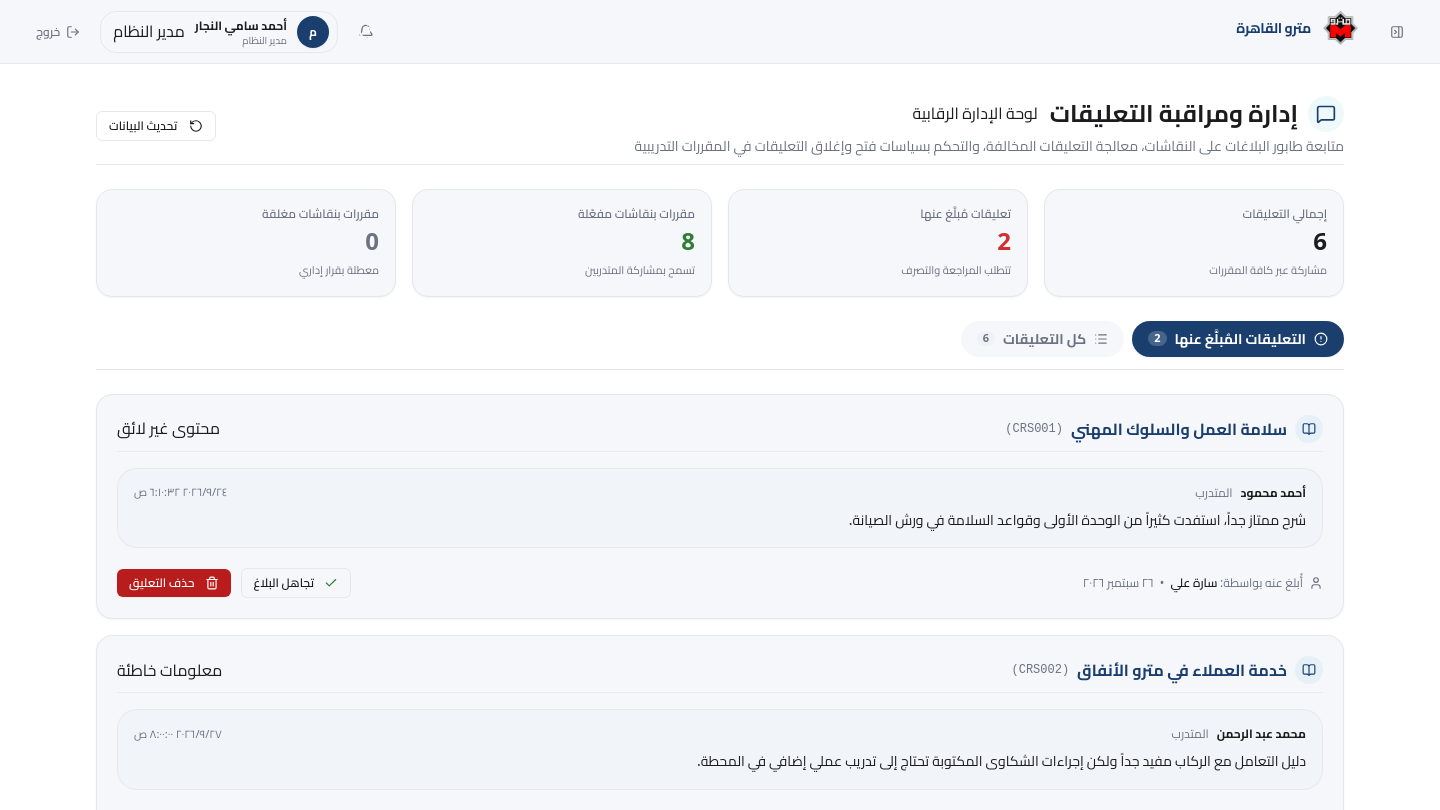
Test: Increment 11 — Phase 5B: Administrative Comment Moderation UI & Workflows › 3. Tab 1: Reported Comments Queue › allows System Administrator to ignore a report, clearing report metadata and removing it from queue
Expected: the element with test id "reported-comment-card-CMT001" is shown, [96,394,1344,619]
Note: Click "تجاهل البلاغ" for CMT001
What coordinates should you click on to do the following:
click the button with test id "ignore-report-btn-CMT001"
I would click on:
 (296, 583)
Its box is [240,568,351,598].
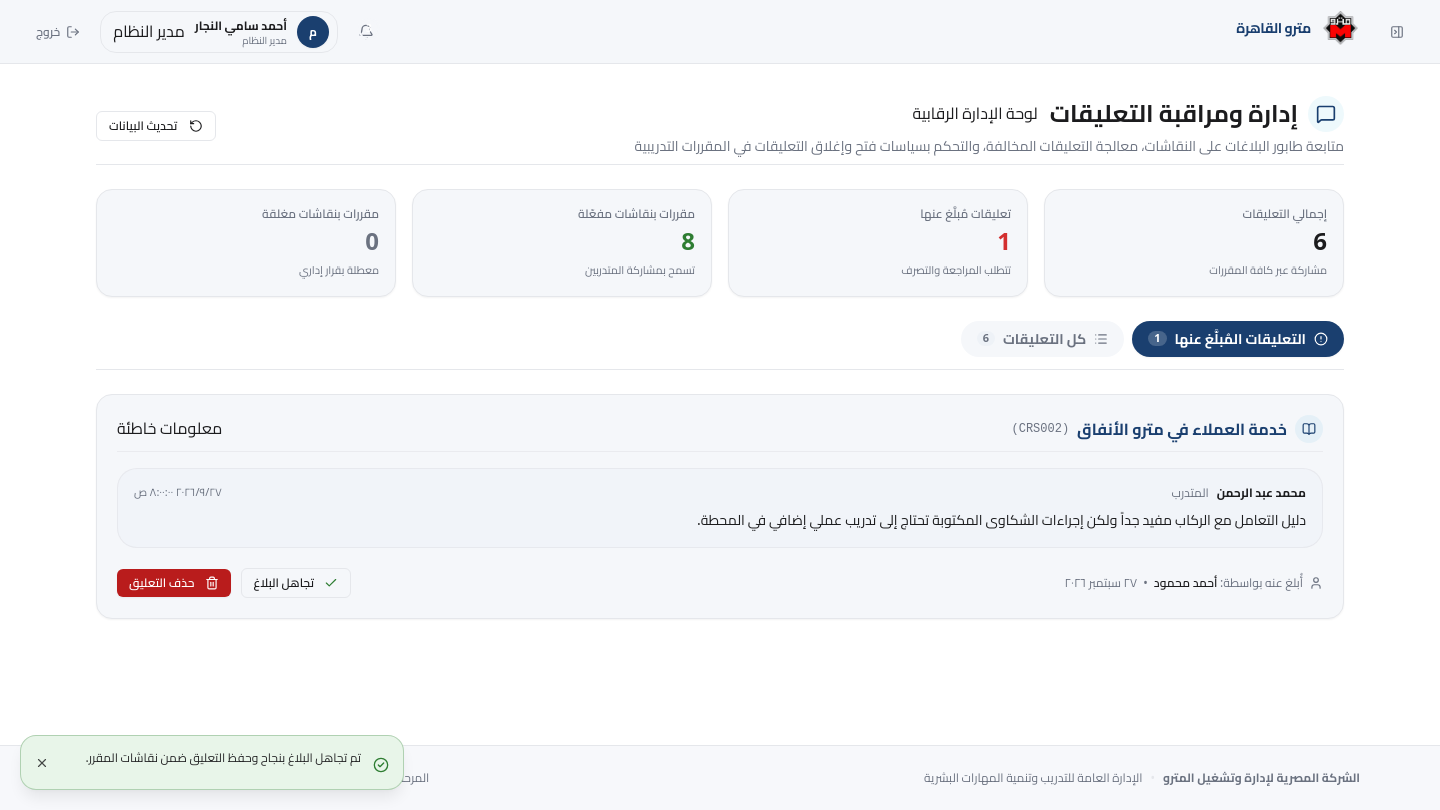
Now the element with test id "reported-comment-card-CMT001" is gone
Now the text with test id "kpi-reported-comments" reads "1", box [997,219,1011,264]
